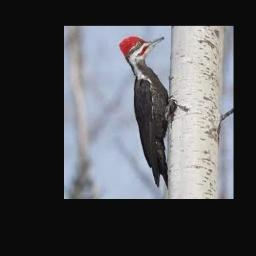Woodpecker: (119, 37, 175, 190)
